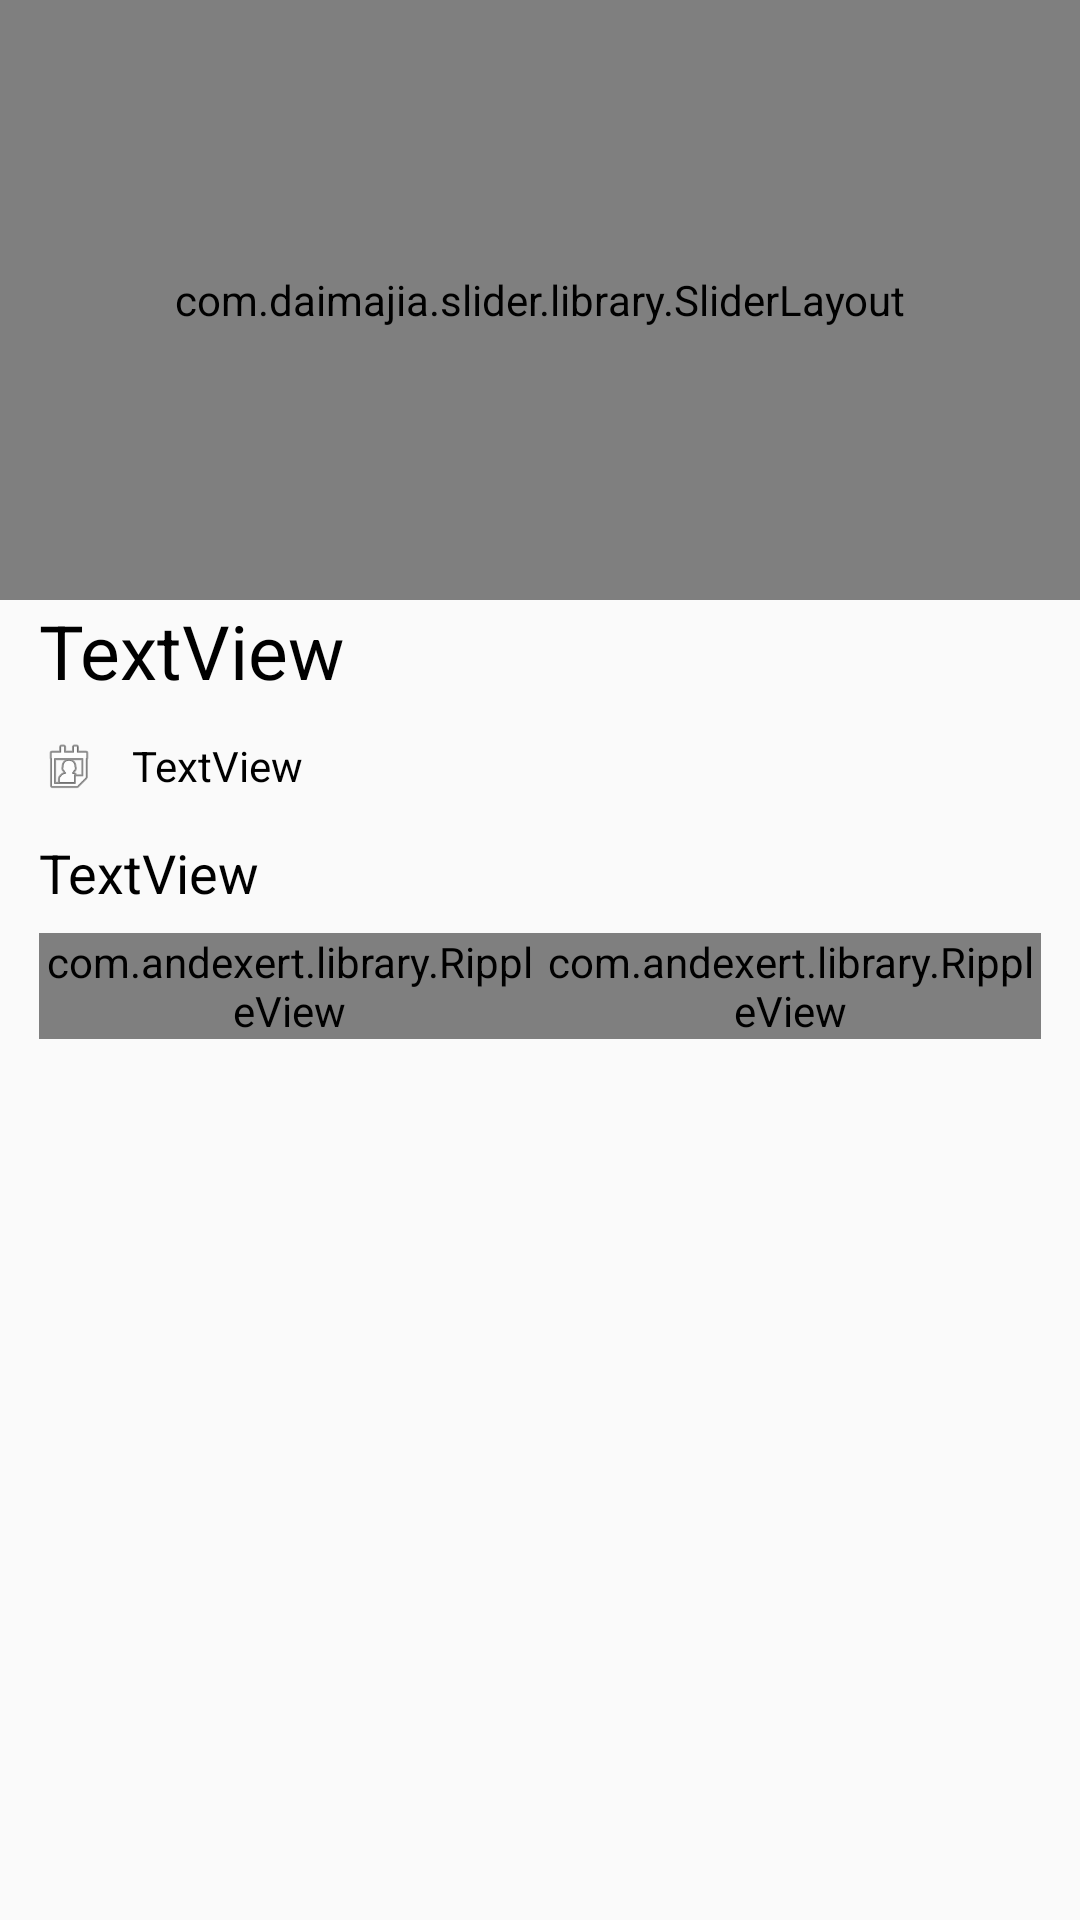

Screen size 1080 × 1920. Icon name, then its center in pixels as (x=x, y=y):
calendar: (x=69, y=766)
